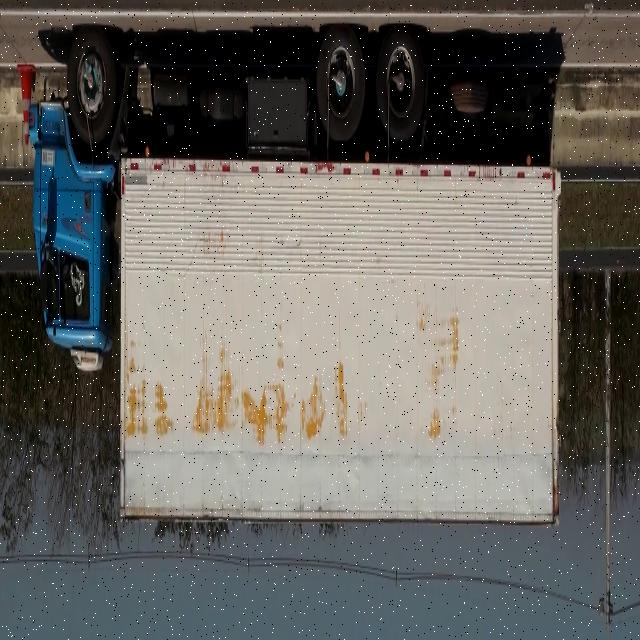-axle: (315, 23, 367, 139), (67, 23, 116, 144), (376, 28, 422, 140)
